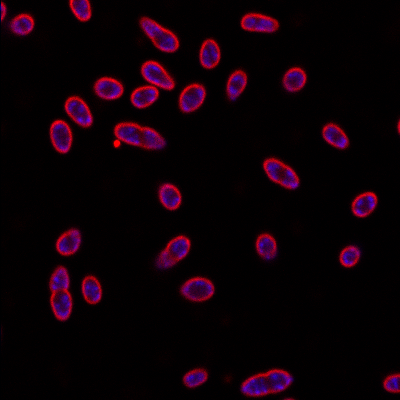Mecillinam: (239, 367, 294, 398), (138, 15, 180, 53), (47, 265, 73, 321), (261, 155, 300, 189), (138, 60, 175, 91), (178, 275, 216, 303), (62, 94, 93, 128), (238, 10, 280, 34), (47, 119, 73, 155), (177, 83, 206, 113), (91, 74, 124, 100), (320, 122, 350, 150), (199, 36, 222, 70), (129, 84, 159, 110), (350, 191, 378, 218), (157, 181, 182, 211), (80, 273, 102, 306), (180, 368, 209, 390)
Oblique: (115, 119, 167, 152), (152, 234, 191, 271), (224, 69, 248, 102), (54, 227, 82, 255), (279, 66, 308, 93), (253, 231, 278, 262), (8, 13, 36, 36), (338, 244, 361, 267)
